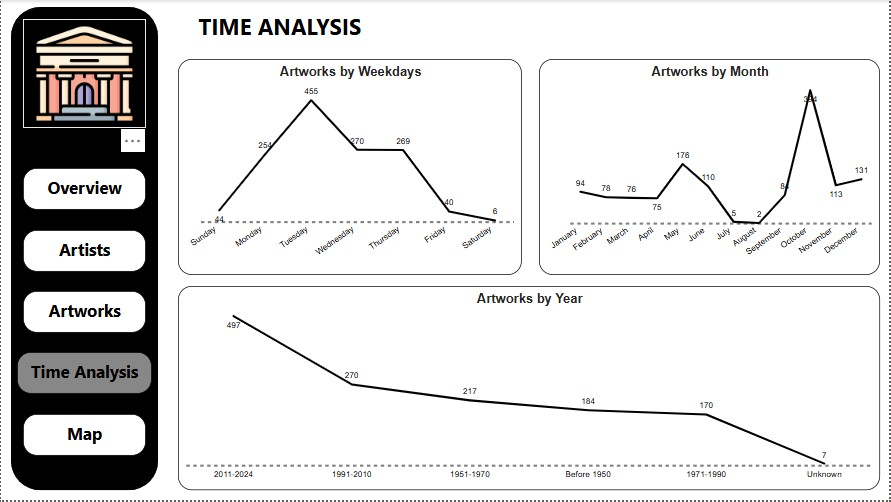

Layout of this report page (visuals, bound fields, positions):
{"tool":"powerbi","page":{"name":"Time Analysis","canvas":[1280,720],"ordinal":3},"visuals":[{"type":"shape","box":[14.5,10.5,211.8,696.1],"z":0},{"type":"textbox","box":[31.2,242.4,177.2,59.5],"z":1000},{"type":"lineChart","title":" Artworks by Year","fields":{"Y":["Calculation.Total Artworks"],"Category":["Artworks.Acquisition Period"]},"box":[254.9,411.8,1010.9,293.8],"z":2000},{"type":"textbox","box":[31.2,330.9,177.2,59.5],"z":3000},{"type":"lineChart","title":"Artworks by Weekdays","fields":{"Category":["DateTable.weekday"],"Y":["Calculation.Total Artworks"]},"box":[254.9,85,495.4,311],"z":4000},{"type":"lineChart","title":" Artworks by Month","fields":{"Category":["DateTable.month"],"Y":["Calculation.Total Artworks"]},"box":[774.7,85,491,311],"z":5000},{"type":"textbox","box":[31.2,596.7,177.2,59.5],"z":6000},{"type":"image","box":[31.2,26.9,177.2,157.3],"z":7000},{"type":"textbox","box":[31.2,419.5,177.2,59.5],"z":8000},{"type":"textbox","box":[22.7,507.4,194.2,59.5],"z":9000},{"type":"actionButton","box":[23,506.9,194.4,60.5],"z":10000},{"type":"textbox","box":[240.5,10.1,322.6,63.4],"z":11000}]}

Visuals, with their boxes in screenshot pixels (x1, y1, x2, y2), scaled from the page's 1280x720 canvas onto the 891x502 screenshot:
shape: select_region(10, 7, 158, 493)
textbox: select_region(22, 169, 145, 210)
" Artworks by Year" lineChart: select_region(177, 287, 881, 492)
textbox: select_region(22, 231, 145, 272)
"Artworks by Weekdays" lineChart: select_region(177, 59, 522, 276)
" Artworks by Month" lineChart: select_region(539, 59, 881, 276)
textbox: select_region(22, 416, 145, 458)
image: select_region(22, 19, 145, 128)
textbox: select_region(22, 292, 145, 334)
textbox: select_region(16, 354, 151, 395)
actionButton: select_region(16, 353, 151, 396)
textbox: select_region(167, 7, 392, 51)
